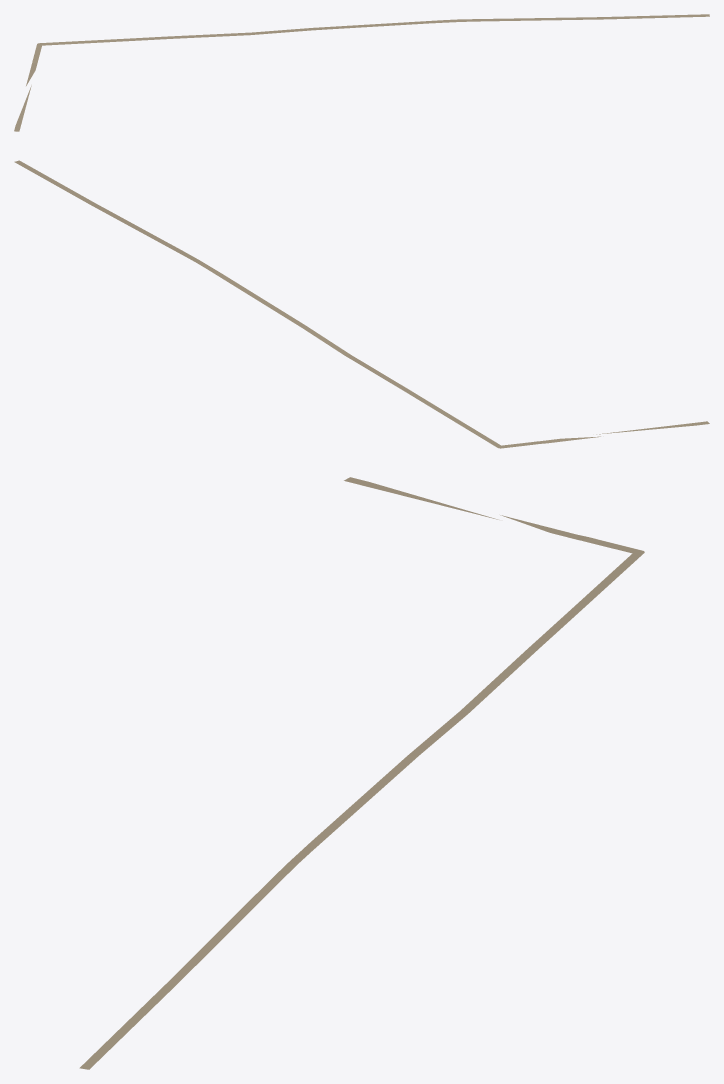
Rendered from farm_12_8_track.glb.
3 views of the same model, one above another, from view 1: azimuth 30°, elevation 25°; view 2: azimuth 150°, elevation 25°; view 3: azimuth 270°, elevation 25° (orthographic). The views are drawn at different scales.
Visible parts, largest first — view 1: geometry_0; view 2: geometry_0; view 3: geometry_0.
Boxes of the visible parts, <box> form: geometry_0: <box>14,14,709,131</box>; geometry_0: <box>14,160,709,448</box>; geometry_0: <box>79,477,644,1069</box>.
Size of the model in its own units: 437 by 10.94 by 170.
